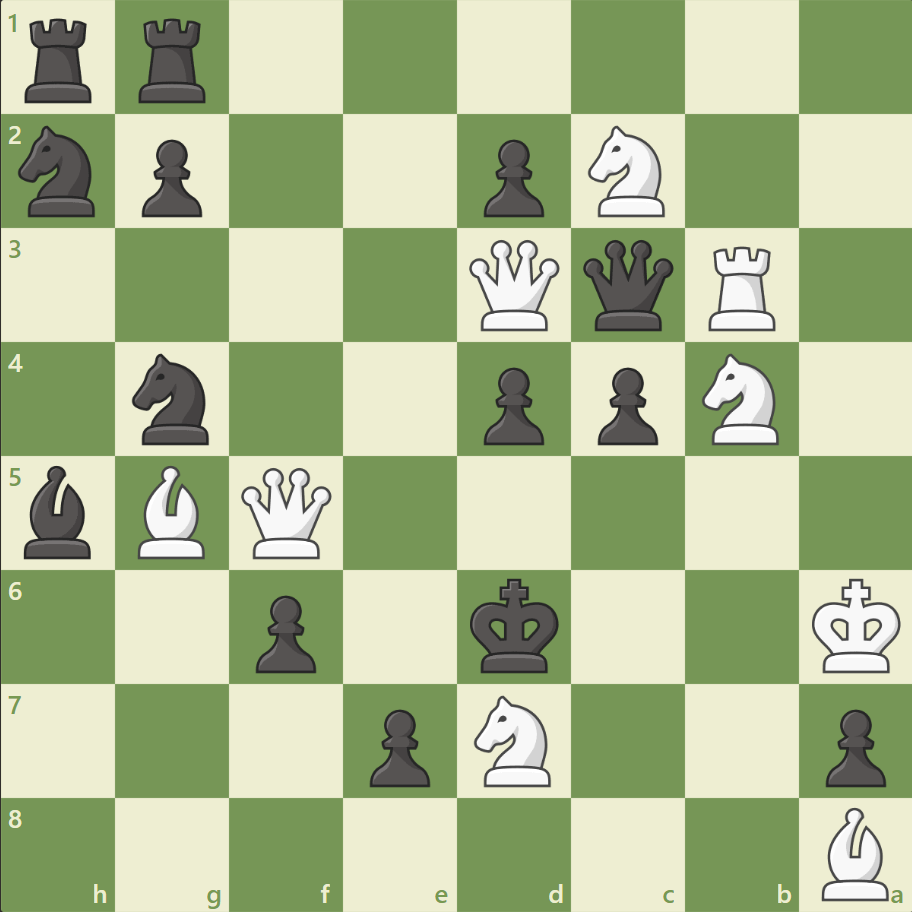B: (812, 801, 896, 904), (131, 460, 215, 563)
K: (806, 571, 906, 679)
N: (465, 688, 562, 791), (692, 348, 789, 450), (579, 121, 676, 223)
Q: (237, 463, 336, 562), (464, 236, 563, 335)
R: (700, 239, 783, 336)
b: (17, 460, 101, 563)
k: (465, 571, 565, 679)
n: (124, 348, 222, 450), (11, 121, 108, 223)
p: (247, 586, 322, 677), (474, 359, 549, 450), (474, 132, 549, 223), (133, 132, 208, 223), (815, 700, 889, 791), (361, 700, 435, 791), (588, 359, 662, 450)
q: (578, 236, 677, 335)
r: (19, 12, 102, 109), (133, 12, 215, 109)
